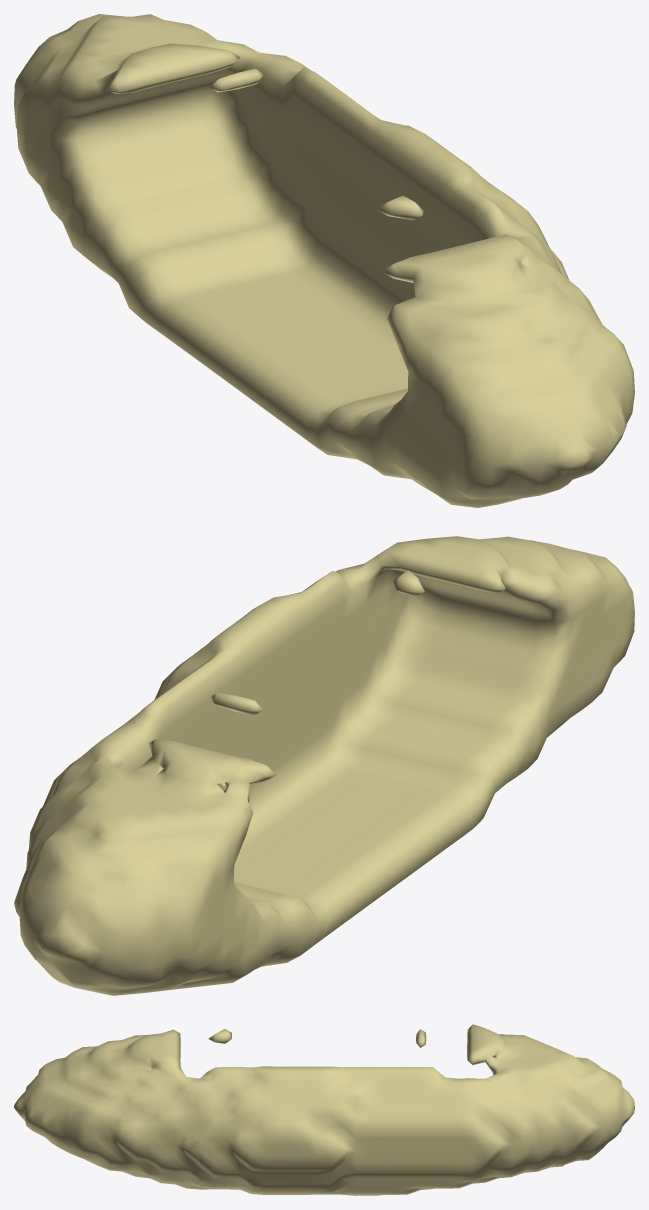
File: renal_sinus_fat.glb
3 views of the same model, one above another, from view 1: azimuth 30°, elevation 25°; view 2: azimuth 150°, elevation 25°; view 3: azimuth 270°, elevation 25° (orthographic). The views are drawn at different scales.
Parts seen in each view (by area): view 1: geometry_0; view 2: geometry_0; view 3: geometry_0.
Boxes of the visible parts, x1,y1,x2,y2 form: geometry_0: (14,14,634,507); geometry_0: (14,536,634,995); geometry_0: (14,1024,634,1195).
Size of the model in its own units: 10.5 by 10.38 by 38.31.
